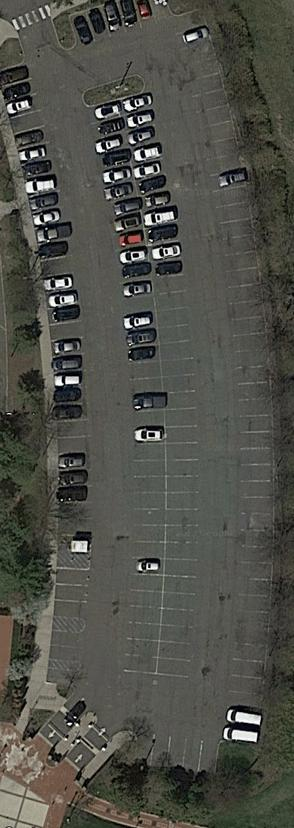parkingspot: (171, 7, 276, 745), (117, 89, 201, 679), (84, 99, 168, 675), (0, 61, 95, 555), (69, 0, 175, 49), (132, 729, 222, 776), (52, 567, 93, 621), (49, 629, 85, 664), (46, 667, 81, 688)
